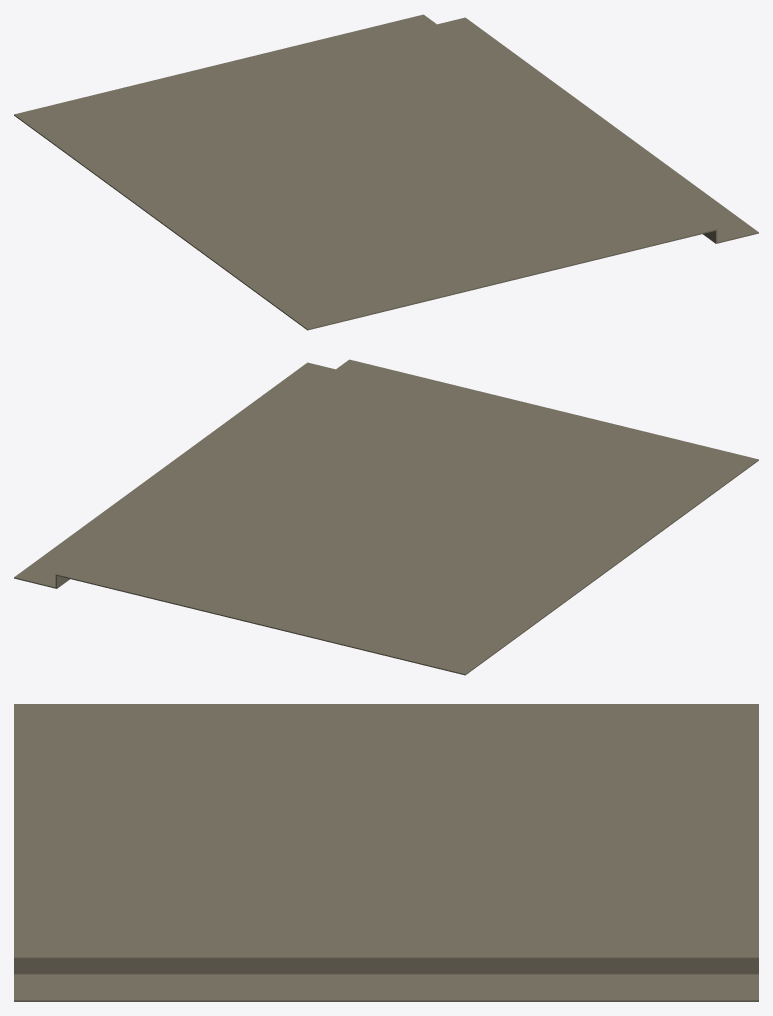
The model's file is FootHold_5.FBX.
3 views of the same model, one above another, from view 1: azimuth 30°, elevation 25°; view 2: azimuth 150°, elevation 25°; view 3: azimuth 270°, elevation 25° (orthographic). The views are drawn at different scales.
Parts seen in each view (by area): view 1: FootHold04; view 2: FootHold04; view 3: FootHold04.
Part boxes in pixels (x1,y1,x2,y2): FootHold04: (14,14,758,330); FootHold04: (14,359,758,675); FootHold04: (14,704,758,1001).
Bounding box in the file's own units: 1373 × 41.73 × 1546.
